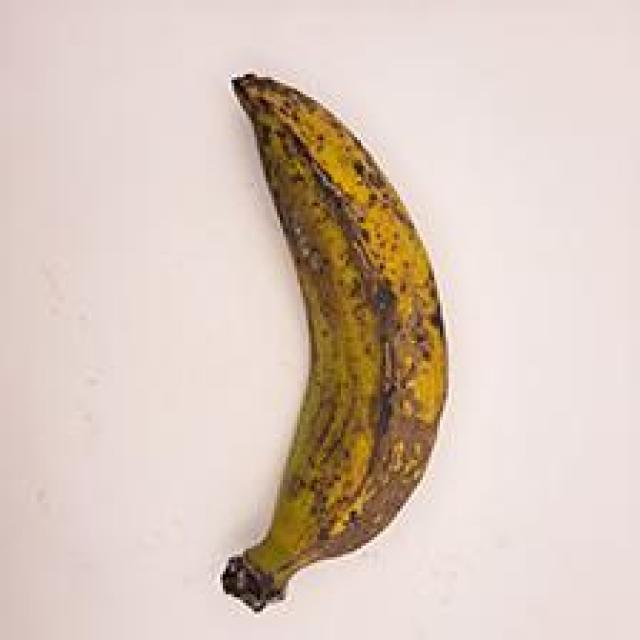Overripe: (143, 63, 465, 617)
